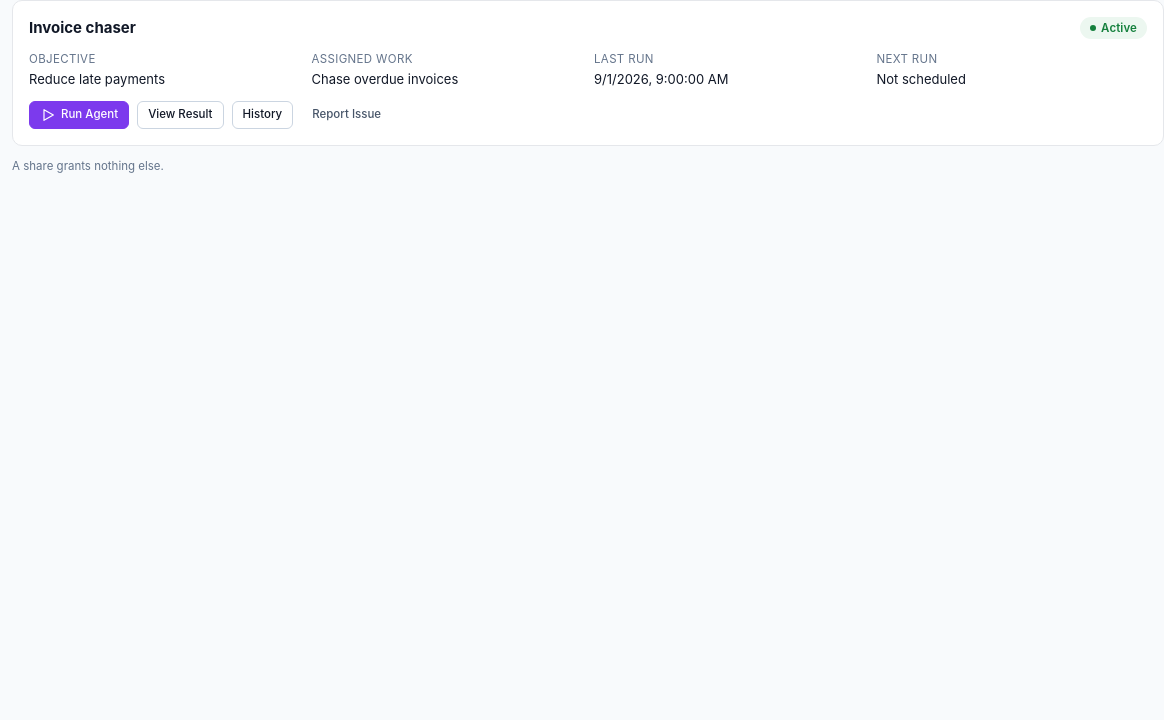
it: MyEngineAgents › refuses to send an issue until the correction is long enough to act on
Click the button with test id "operator-report-issue" at (347, 114), box top-left (301, 100), bottom-right (392, 128)
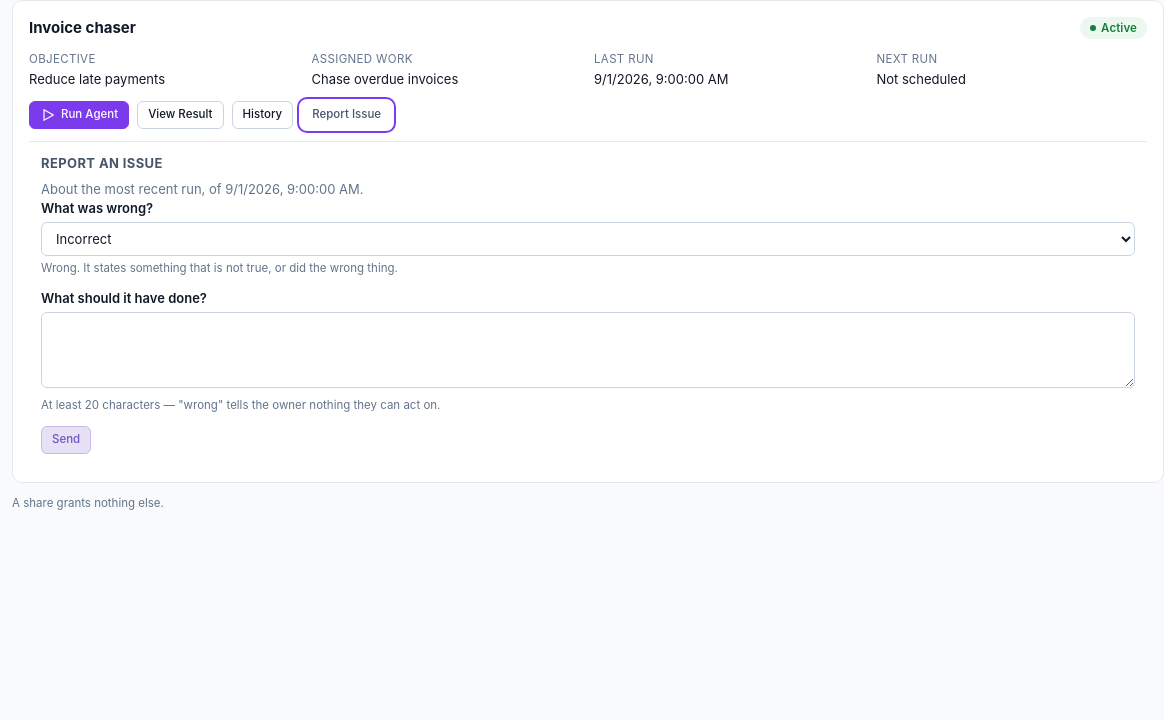
Result: the button with test id "operator-issue-send" is disabled at top-left (41, 426), bottom-right (91, 454)
Type "It chased the wrong customer entirely." into the text box with test id "operator-issue-correction" at (588, 350), box top-left (41, 312), bottom-right (1135, 388)
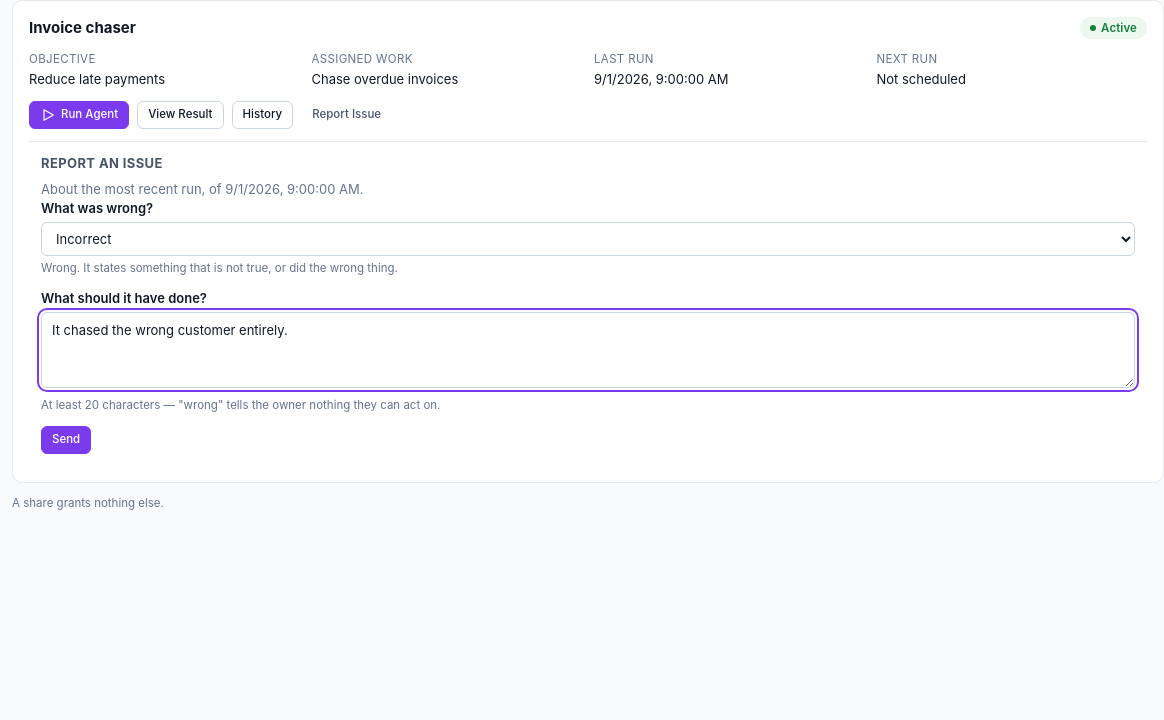
Result: the button with test id "operator-issue-send" is enabled at top-left (41, 426), bottom-right (91, 454)
